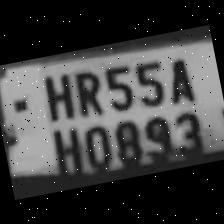0: (76, 116, 116, 175)
3: (166, 104, 208, 158)
5: (127, 53, 168, 108), (96, 57, 136, 112)
8: (106, 112, 146, 170)
9: (136, 108, 176, 162)
A: (159, 51, 200, 106)
H: (32, 66, 78, 125), (43, 121, 86, 183)
R: (68, 63, 107, 118)
